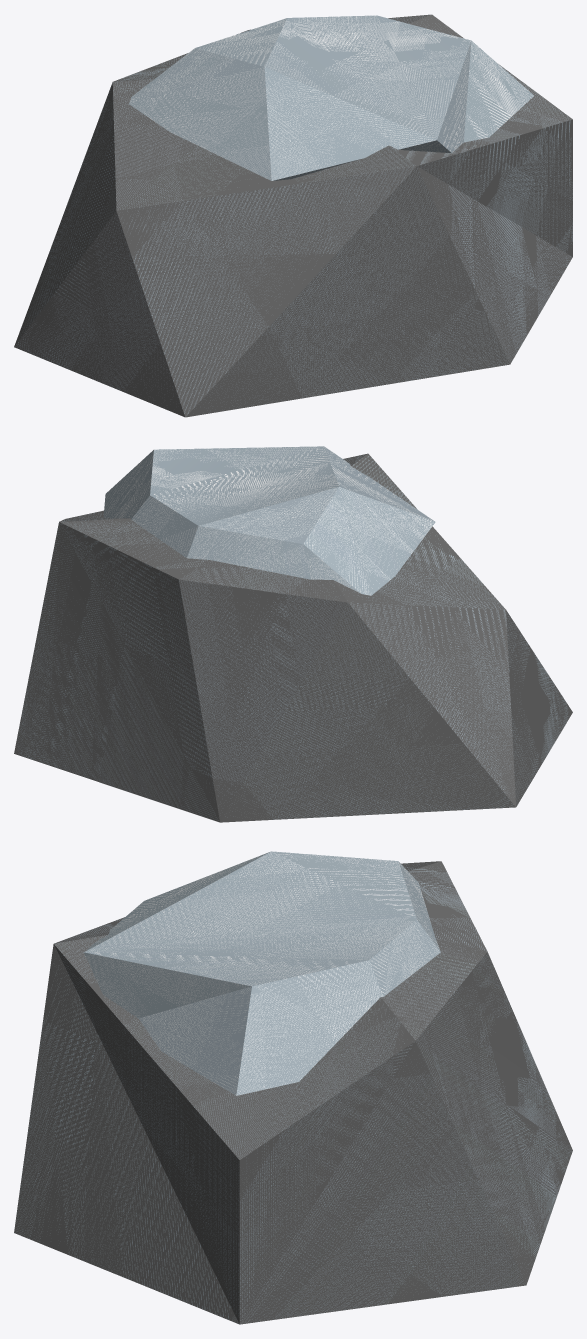
Rendered from Rock_Medium_Snow_01.fbx.
3 views of the same model, one above another, from view 1: azimuth 30°, elevation 25°; view 2: azimuth 150°, elevation 25°; view 3: azimuth 270°, elevation 25° (orthographic). The views are drawn at different scales.
Visible parts, largest first — view 1: Model; view 2: Model; view 3: Model.
Boxes of the visible parts, x1,y1,x2,y2 form: Model: (14,14,572,417); Model: (14,446,572,822); Model: (14,851,572,1324).
Bounding box in the file's own units: 376 × 218 × 298.
